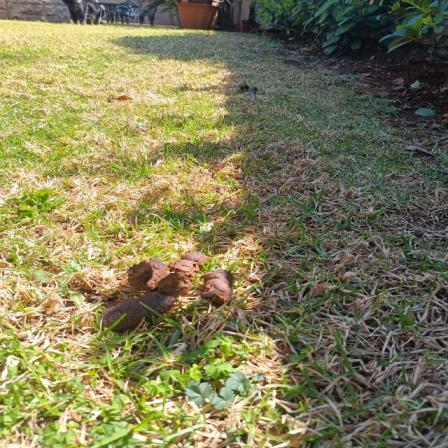dog-poop: (100, 249, 252, 335)
